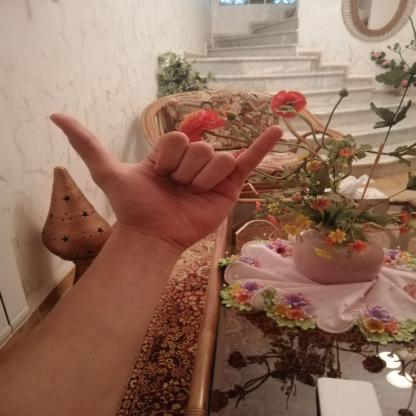YA: (34, 98, 299, 256)
